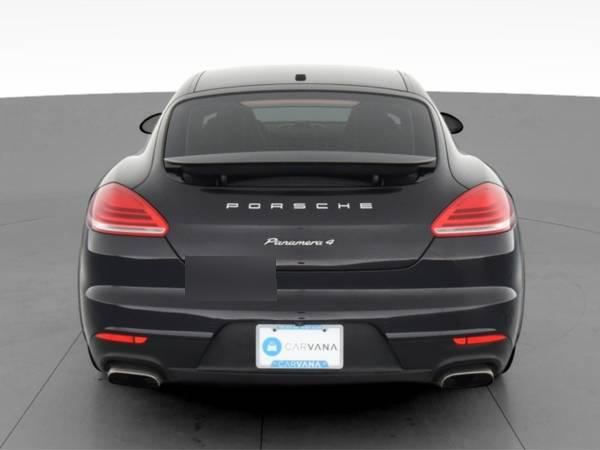Left_Taillight: (83, 185, 168, 237)
Rear_Bumper: (74, 224, 521, 384)
Rear_Windshield: (143, 82, 454, 174)
Right_Taillight: (432, 182, 519, 239)
Roof: (173, 57, 429, 98)
Tailgate: (105, 149, 496, 270)
